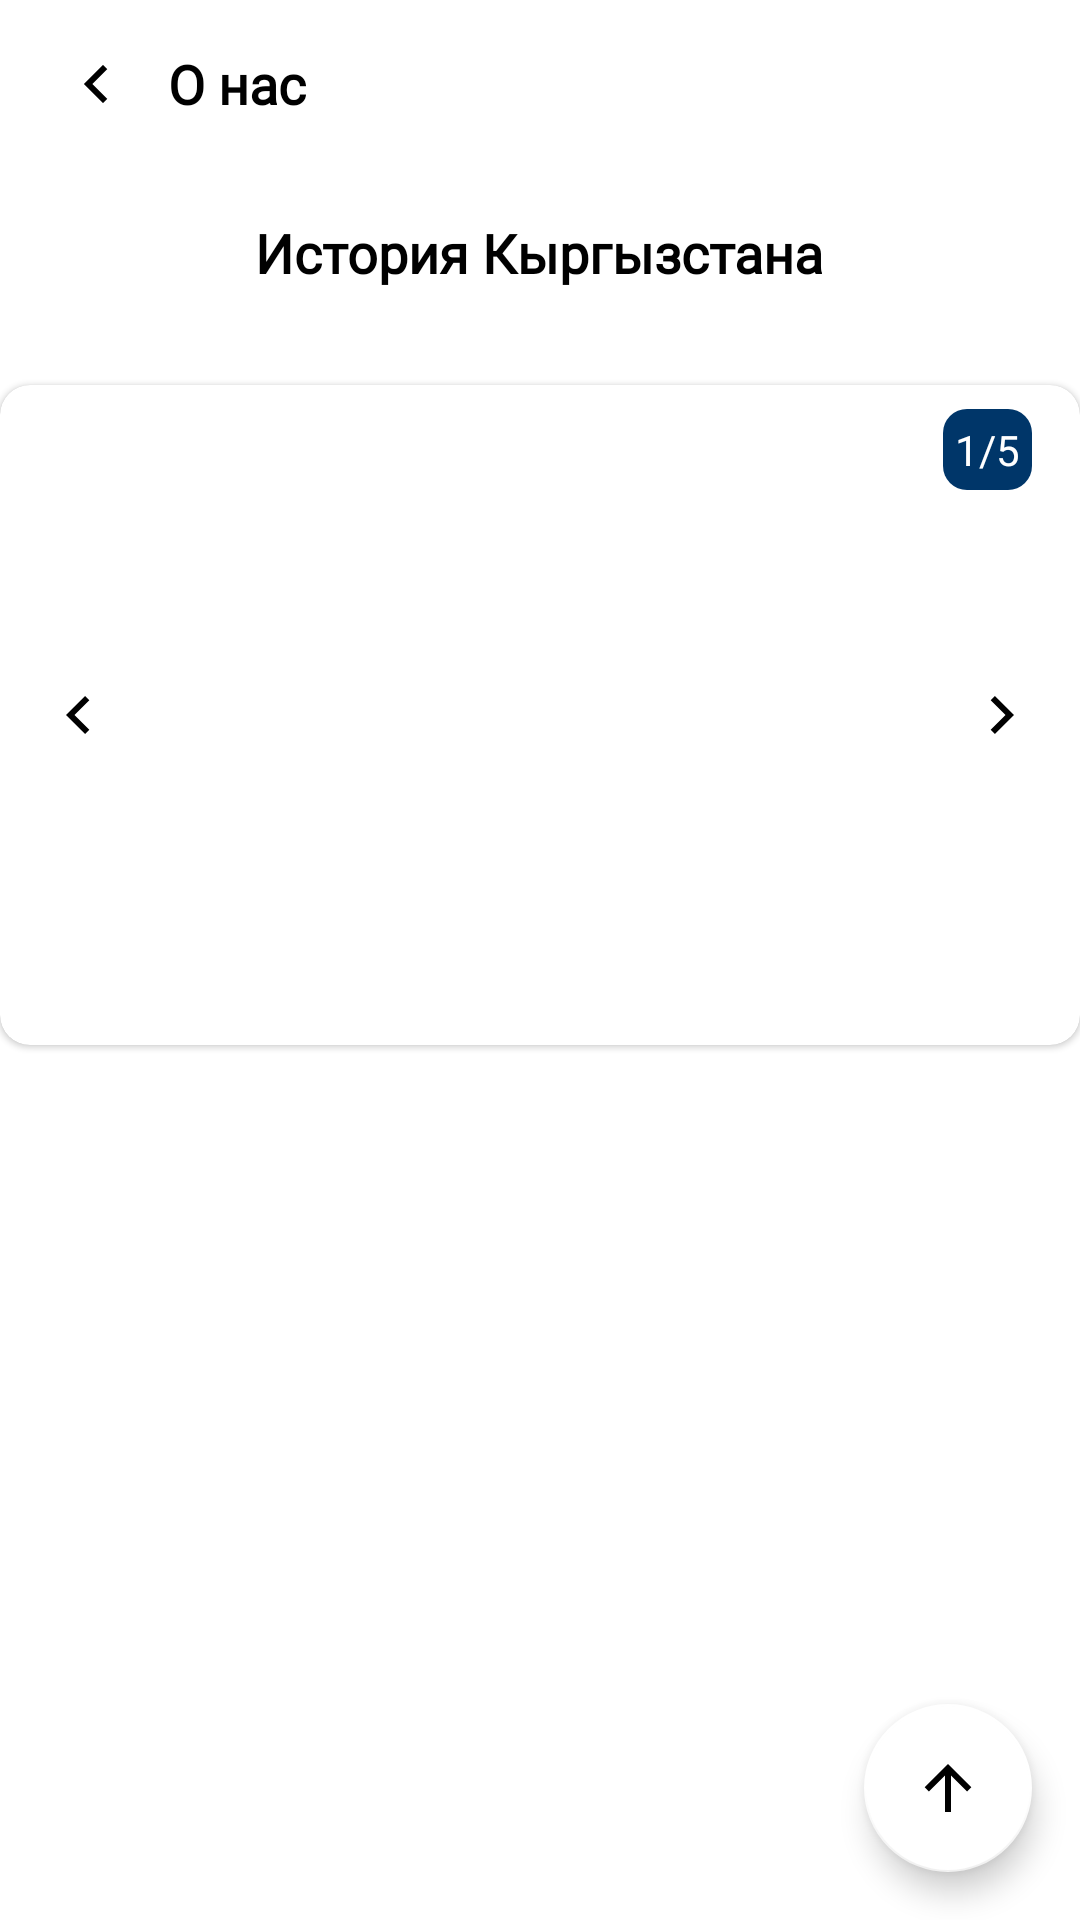

Where to tap for icons on this 1080×1920 app screen, as (x,y):
arrow left: (95,84)
arrow up: (950,1818)
